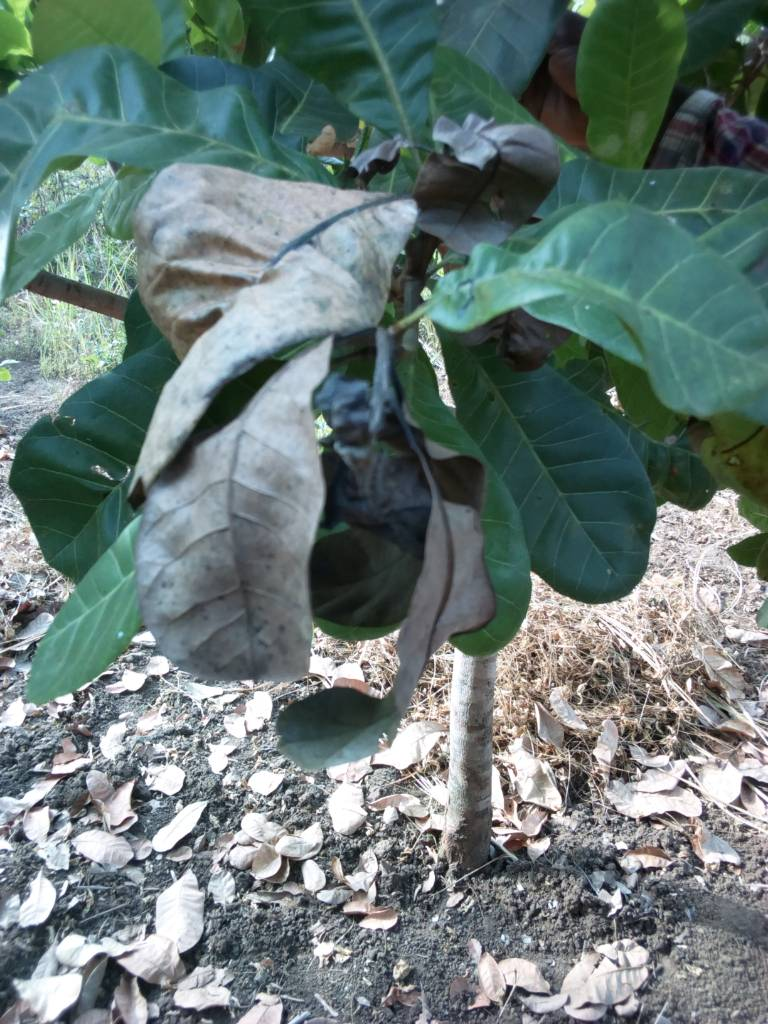Dessèchement des bourgeons: (327, 375, 435, 538)
